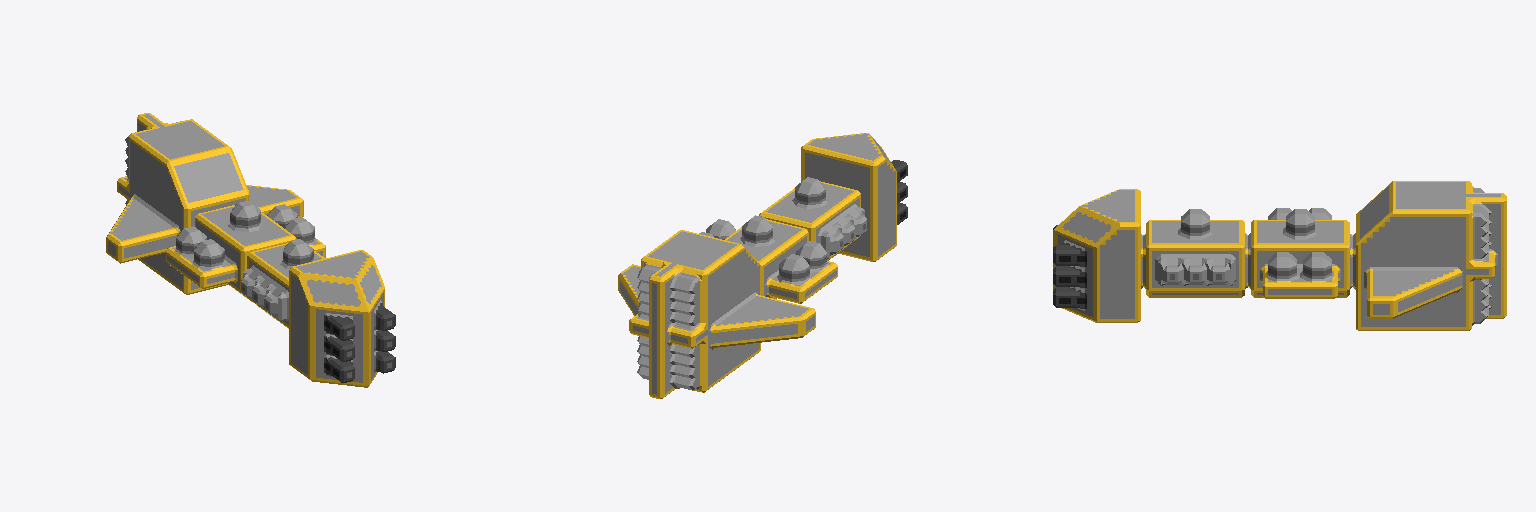
3 views of the same model, side by side, from view 1: azimuth 30°, elevation 25°; view 2: azimuth 150°, elevation 25°; view 3: azimuth 270°, elevation 25° (orthographic).
Bounding box in the file's own units: 37 × 23 × 78.
1 materials, 1 textured.